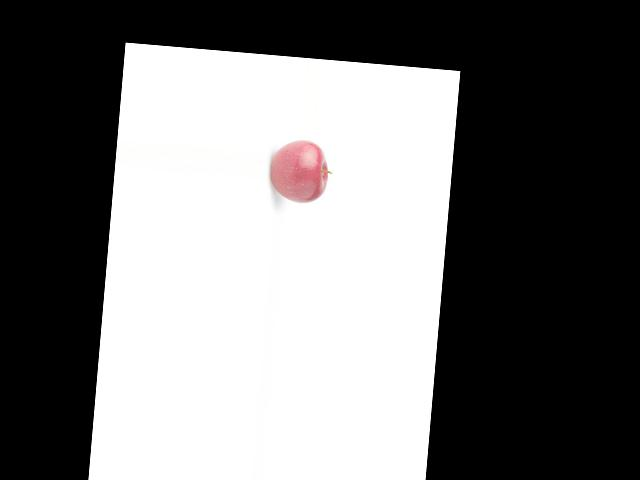apple: (266, 136, 335, 207)
